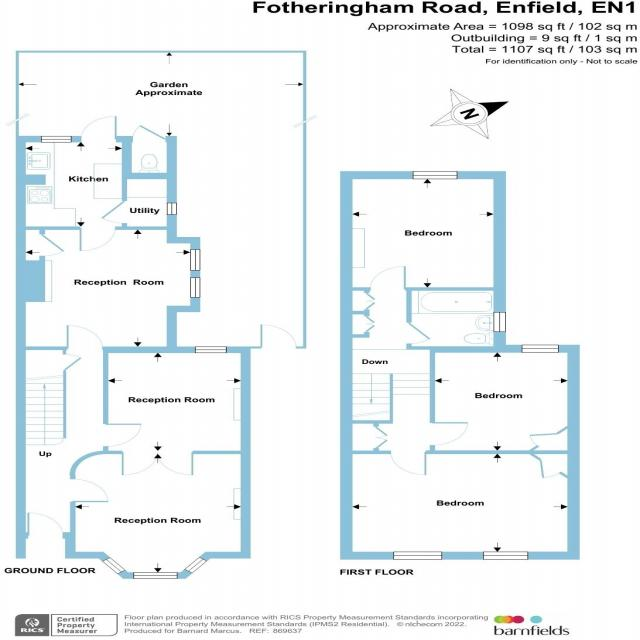DOOR: (120, 451, 194, 478), (24, 511, 66, 538), (78, 115, 118, 143), (430, 421, 470, 447), (103, 422, 143, 448), (388, 450, 427, 476), (70, 477, 110, 502), (79, 226, 117, 252), (368, 265, 408, 289), (66, 325, 104, 348)
ROOM: (340, 450, 579, 560), (15, 226, 201, 354), (69, 451, 251, 580), (340, 171, 506, 291), (102, 346, 250, 477), (430, 344, 580, 454), (16, 115, 127, 252)
WINDOW: (98, 556, 127, 575), (182, 556, 208, 576), (392, 551, 443, 561), (481, 551, 530, 560), (412, 171, 458, 180), (131, 572, 177, 580), (520, 344, 560, 353), (493, 311, 507, 332), (190, 248, 202, 271), (189, 276, 201, 298), (39, 136, 73, 143), (193, 346, 227, 353), (167, 202, 178, 215)
